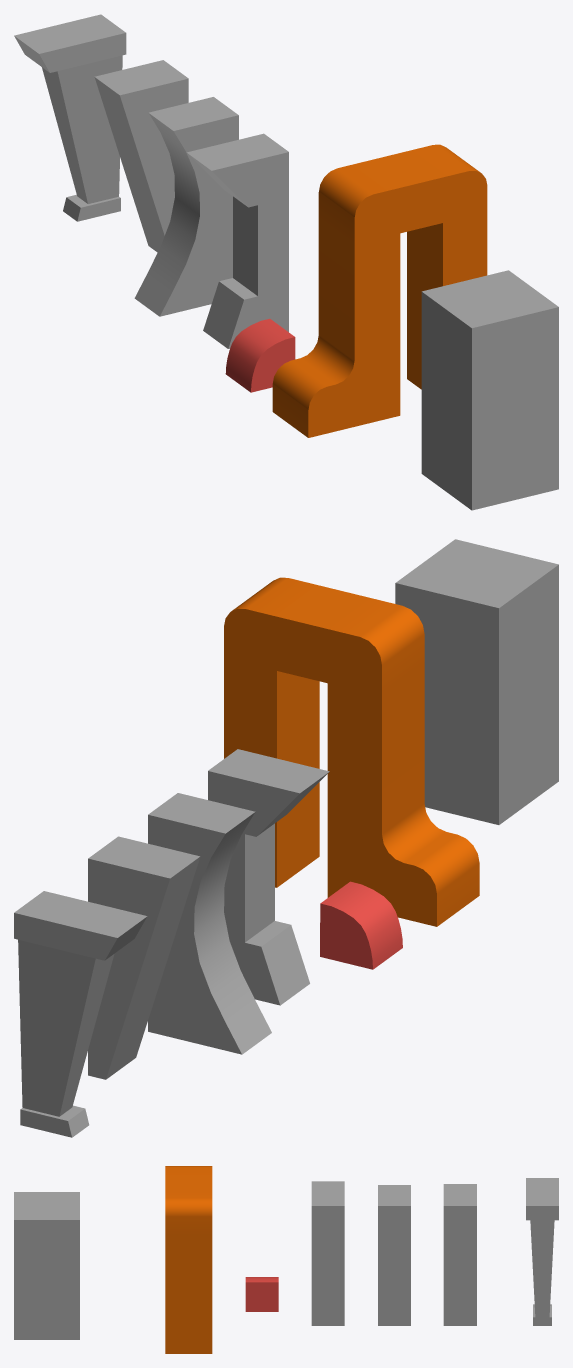
Rendered from Pillar.fbx.
3 renders of one model, top to bottom at view 1: azimuth 30°, elevation 25°; view 2: azimuth 150°, elevation 25°; view 3: azimuth 270°, elevation 25°, orthographic. The views are drawn at different scales.
Visible parts, largest first — view 1: Pillar5, Pillar6, Pillar2, Pillar3, Pillar0, Pillar1, Pillar4; view 2: Pillar5, Pillar6, Pillar0, Pillar2, Pillar3, Pillar1, Pillar4; view 3: Pillar6, Pillar5, Pillar3, Pillar1, Pillar2, Pillar0, Pillar4.
Part boxes in pixels (left/top/right/bottom): Pillar5: left=272, top=144, right=487, bottom=437; Pillar6: left=421, top=270, right=558, bottom=510; Pillar2: left=134, top=97, right=238, bottom=316; Pillar3: left=187, top=133, right=288, bottom=348; Pillar0: left=14, top=14, right=126, bottom=221; Pillar1: left=94, top=60, right=188, bottom=252; Pillar4: left=225, top=318, right=295, bottom=392; Pillar5: left=224, top=577, right=479, bottom=926; Pillar6: left=395, top=539, right=558, bottom=824; Pillar0: left=14, top=891, right=147, bottom=1137; Pillar2: left=148, top=793, right=271, bottom=1054; Pillar3: left=208, top=749, right=329, bottom=1005; Pillar1: left=88, top=836, right=200, bottom=1079; Pillar4: left=320, top=881, right=402, bottom=969; Pillar6: left=14, top=1192, right=79, bottom=1339; Pillar5: left=165, top=1166, right=212, bottom=1353; Pillar3: left=311, top=1181, right=344, bottom=1325; Pillar1: left=443, top=1184, right=476, bottom=1325; Pillar2: left=378, top=1185, right=410, bottom=1325; Pillar0: left=526, top=1178, right=558, bottom=1325; Pillar4: left=245, top=1277, right=278, bottom=1311.
Bounding box in the file's own units: 0.0411 × 0.05 × 0.1648.
